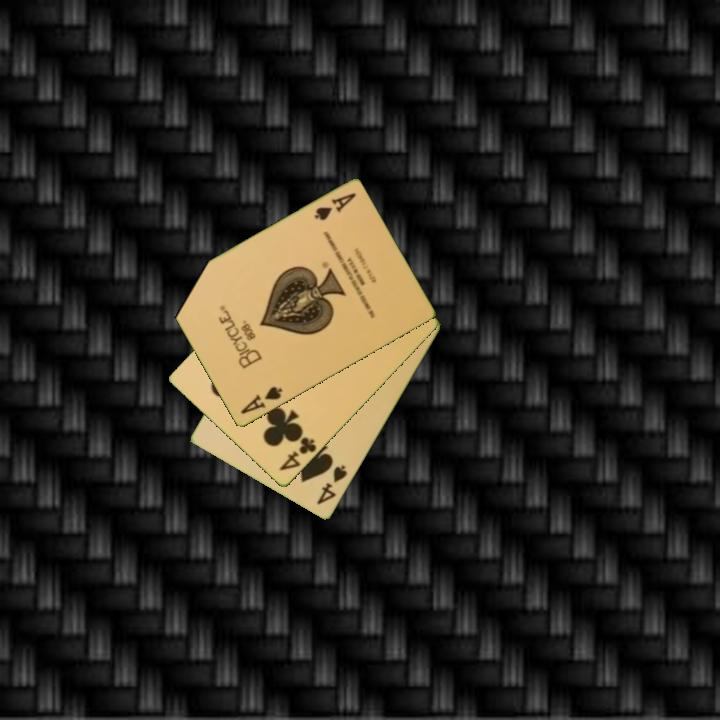4c: (275, 433, 319, 474)
4s: (313, 461, 350, 508)
As: (310, 189, 359, 224), (237, 383, 285, 417)
